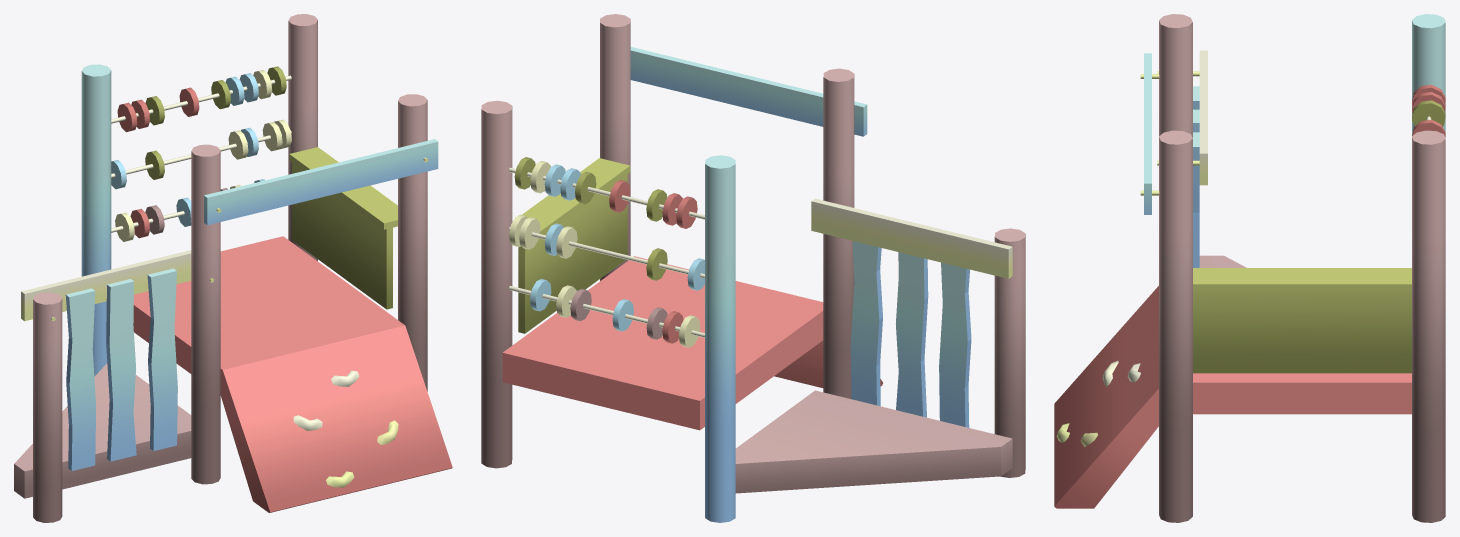
File: playground.fbx
3 views of the same model, side by side, from view 1: azimuth 30°, elevation 25°; view 2: azimuth 150°, elevation 25°; view 3: azimuth 270°, elevation 25° (orthographic). The views are drawn at different scales.
Parts seen in each view (by area): view 1: plac_zabaw; view 2: plac_zabaw; view 3: plac_zabaw.
Boxes of the visible parts, x1,y1,x2,y2 form: plac_zabaw: (14, 14, 452, 522); plac_zabaw: (481, 14, 1025, 522); plac_zabaw: (1054, 14, 1445, 522).
Bounding box in the file's own units: 150 × 120 × 113.
